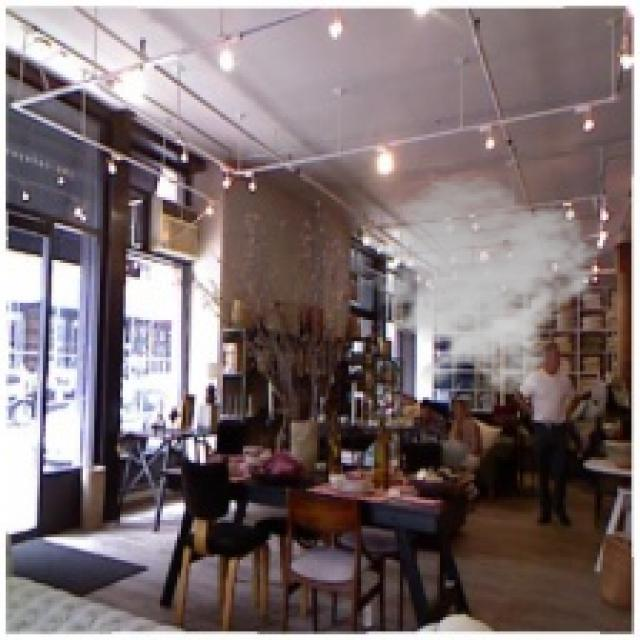smoke: (348, 174, 606, 397)
